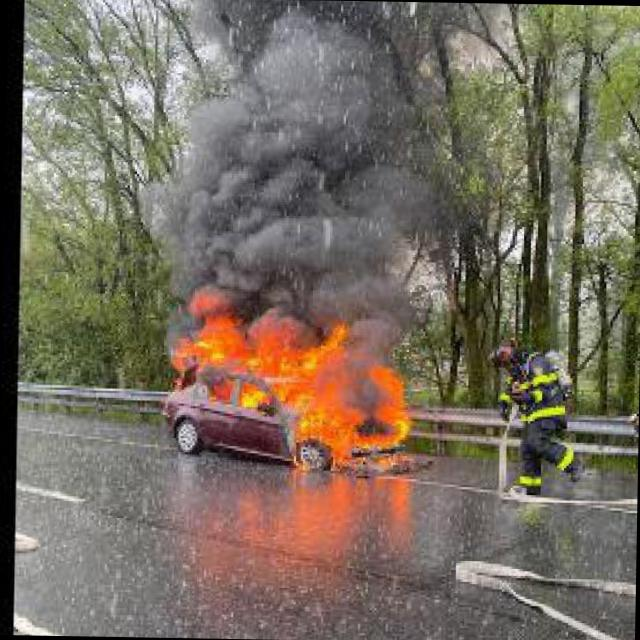fire: (170, 288, 414, 472)
smoke: (143, 22, 456, 352)
